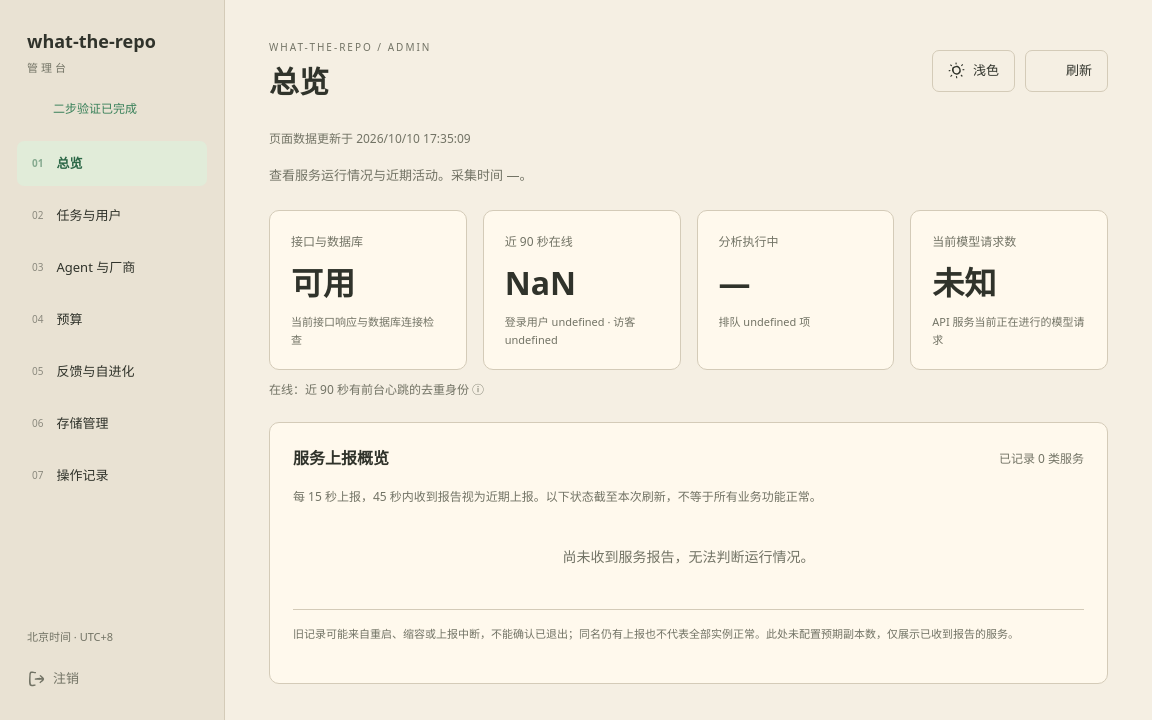
Test: ignores a departed page response and allows retry after failure
Click the button "06 存储管理".
click(112, 424)  # box [17,401,207,446]
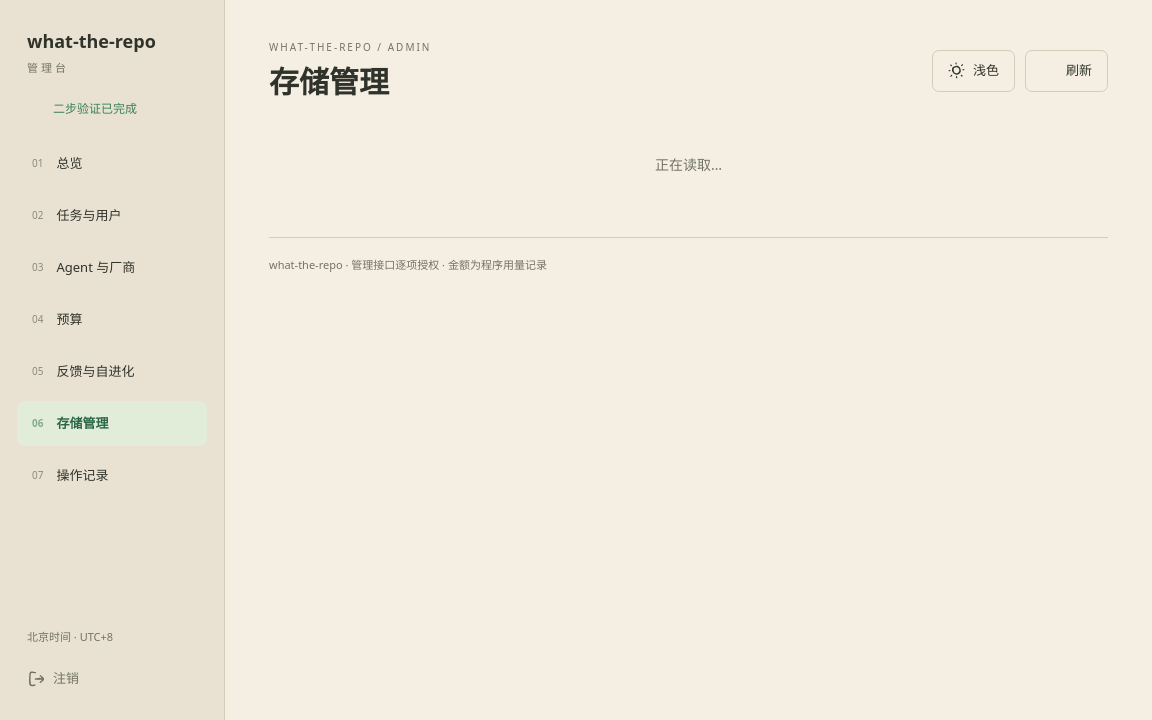
Click the button "07 操作记录".
click(112, 476)  # box [17,453,207,498]
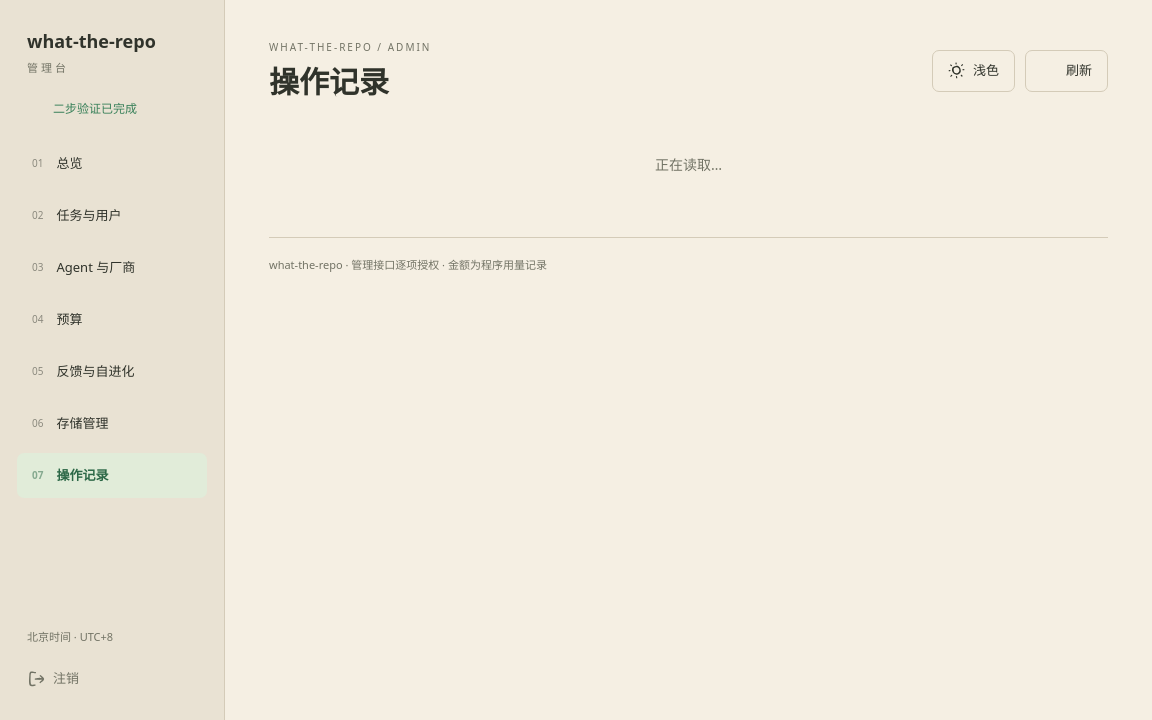
Click the button "刷新".
click(1066, 71)  # box [1025,50,1108,92]
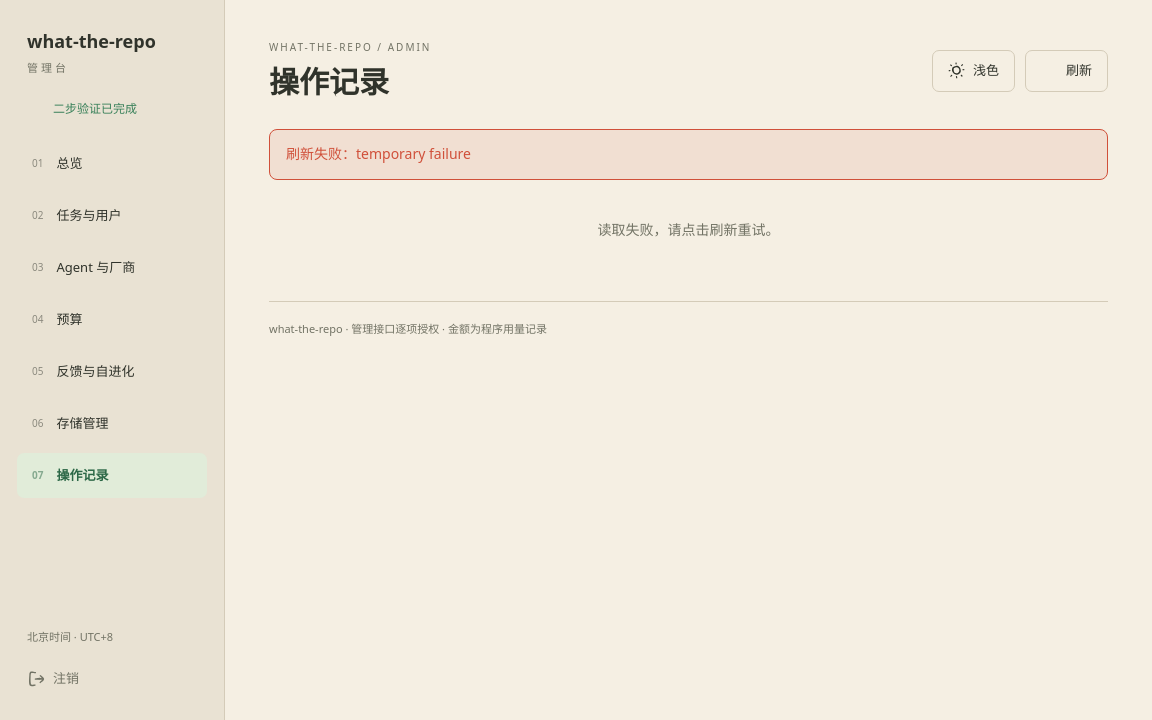
Now the message shows "temporary failure", box [286,144,471,163]
Click the button "刷新".
click(1066, 71)  # box [1025,50,1108,92]
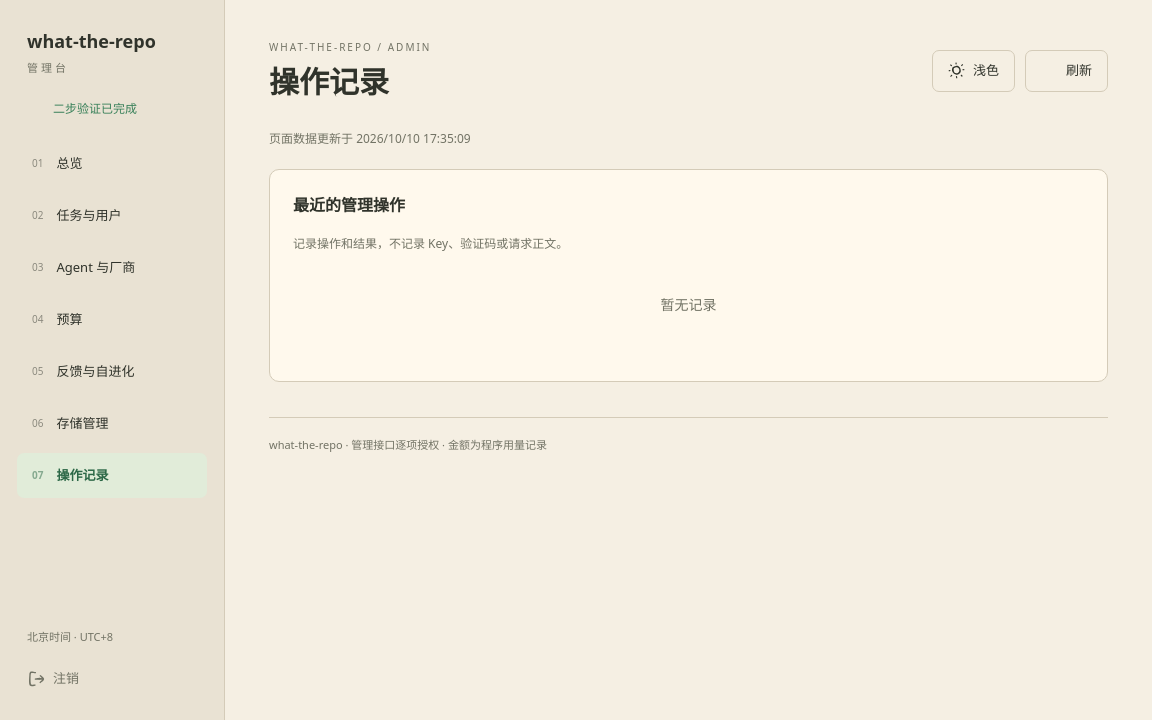
Now the heading "最近的管理操作" is shown, box [293,193,405,218]
Now the message "刷新失败：temporary failure" is gone
